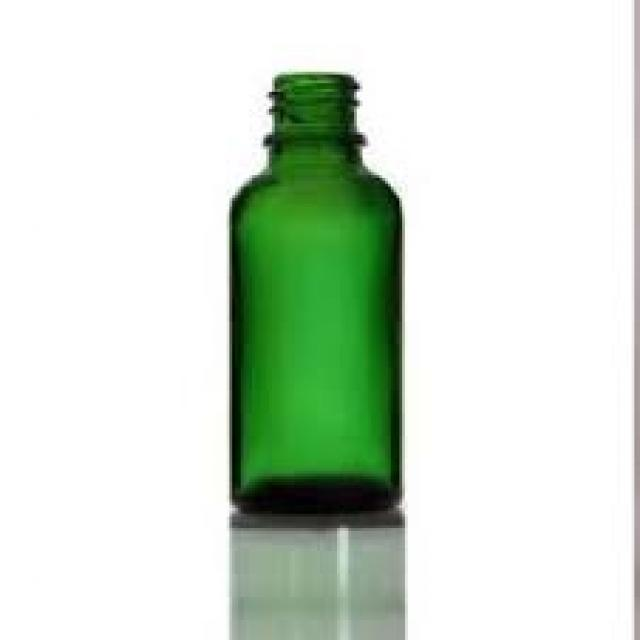Glass-Non-Biodegradable but Recyclable-: (229, 73, 406, 513)
